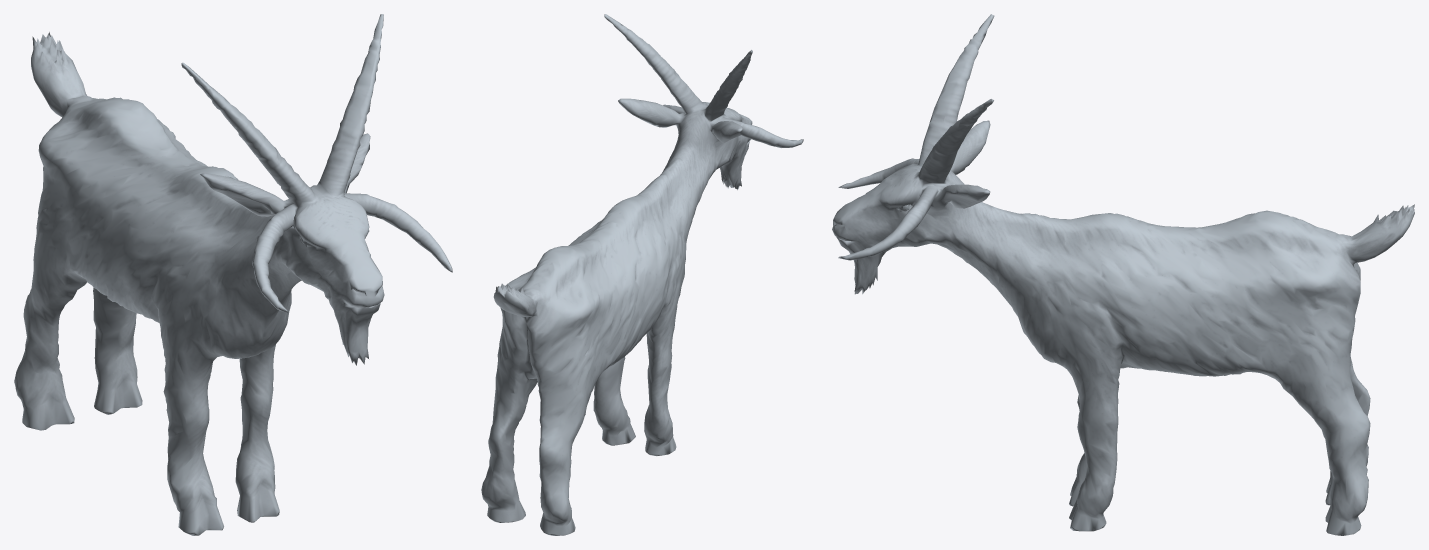
The model's file is giant_goat.glb.
3 renders of one model, left to right at view 1: azimuth 30°, elevation 25°; view 2: azimuth 150°, elevation 25°; view 3: azimuth 270°, elevation 25°, orthographic. The views are drawn at different scales.
Visible parts, largest first — view 1: Goat.001; view 2: Goat.001; view 3: Goat.001.
Boxes of the visible parts, x1,y1,x2,y2 form: Goat.001: [14, 14, 452, 535]; Goat.001: [481, 14, 803, 535]; Goat.001: [832, 14, 1414, 535].
Size of the model in its own units: 57.22 by 141 by 163.
Materials: 1 (1 with a texture image).
